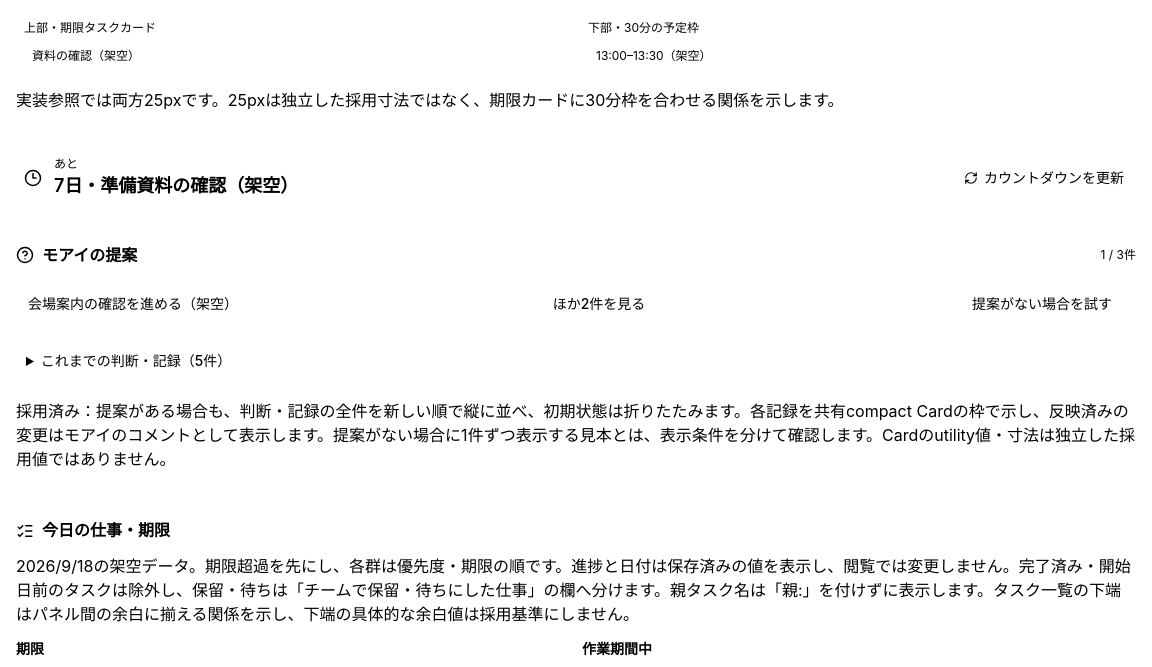
Test: additional isolated guide specimens › keeps the new proposal-history presentation separate from the adopted no-proposal view
(page scrolled)
Expected: the element named "提案（架空）" is shown, [16,278,1136,330]
Click the heading with test id "neo-history-count-summary" at (136, 361), box [41,352,231,370]
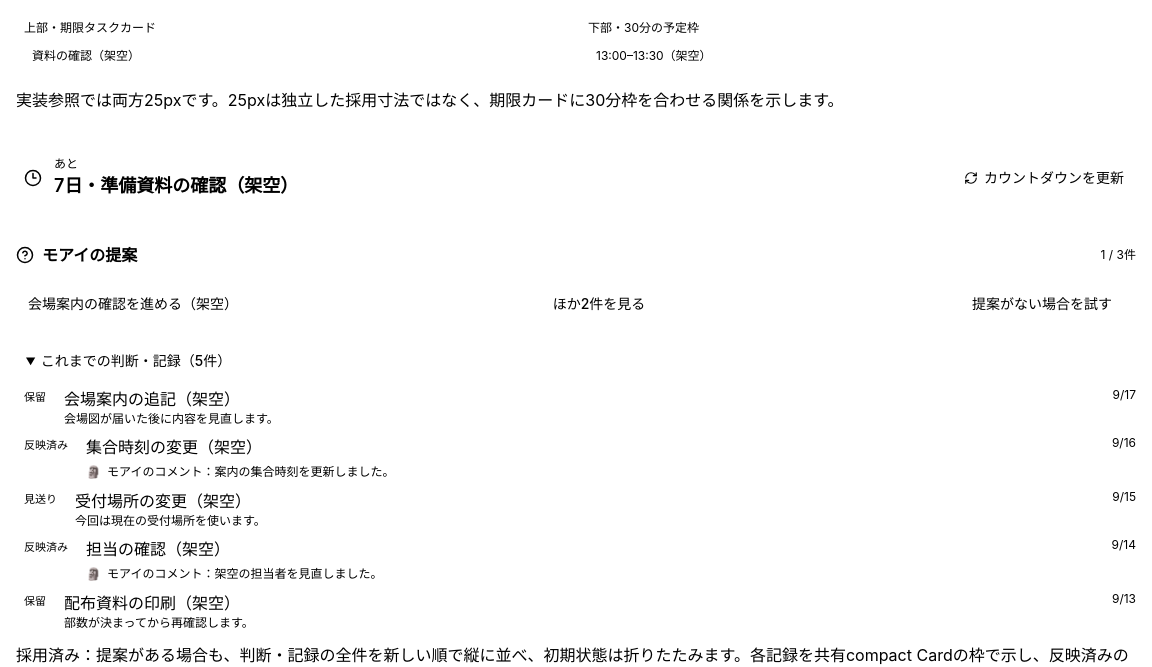
Now the number of elements with test id "neo-history-record" is 5, box [16,388,1136,428]; [16,436,1136,482]; [16,490,1136,530]; [16,538,1136,584]; [16,592,1136,632]
Now the text "モアイのコメント：案内の集合時刻を更新しました。" is shown, box [107,464,394,482]
